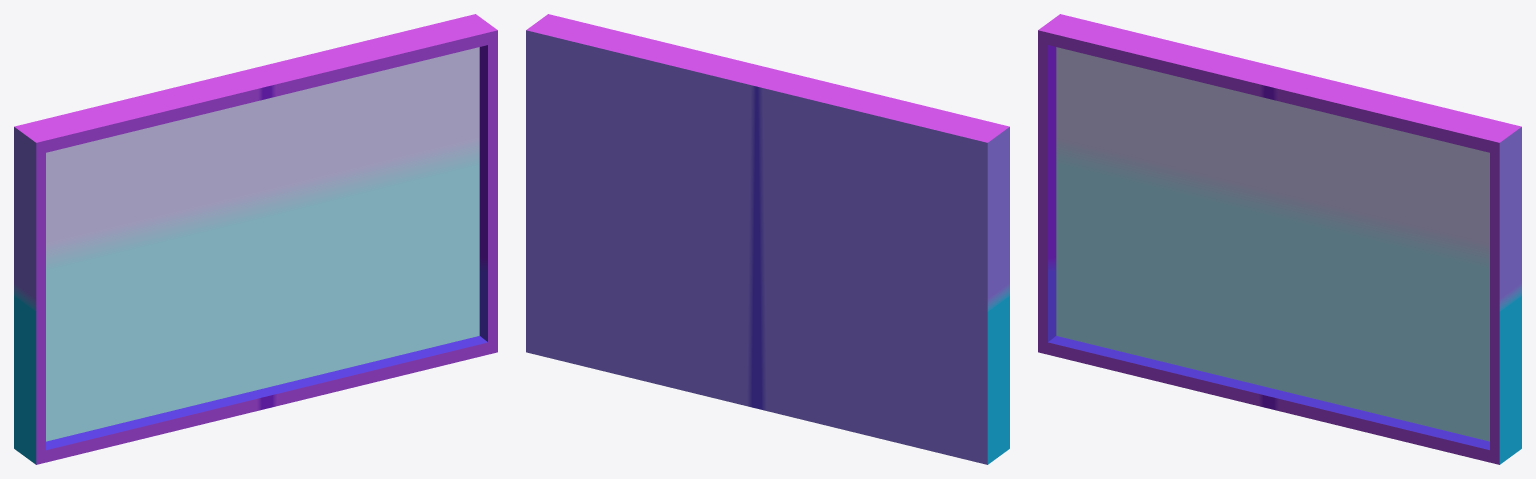
The model's file is 3d_billboard_6x4.fbx.
The picture shows the model from 3 angles, left to right: view 1: azimuth 30°, elevation 25°; view 2: azimuth 150°, elevation 25°; view 3: azimuth 330°, elevation 25°; orthographic projection.
Visible parts, largest first — view 1: GEO_Billboard_6x4; view 2: GEO_Billboard_6x4; view 3: GEO_Billboard_6x4.
Boxes of the visible parts, x1,y1,x2,y2 form: GEO_Billboard_6x4: [14, 14, 497, 464]; GEO_Billboard_6x4: [526, 14, 1009, 464]; GEO_Billboard_6x4: [1038, 14, 1521, 464].
Size of the model in its own units: 6 by 0.5 by 4.
